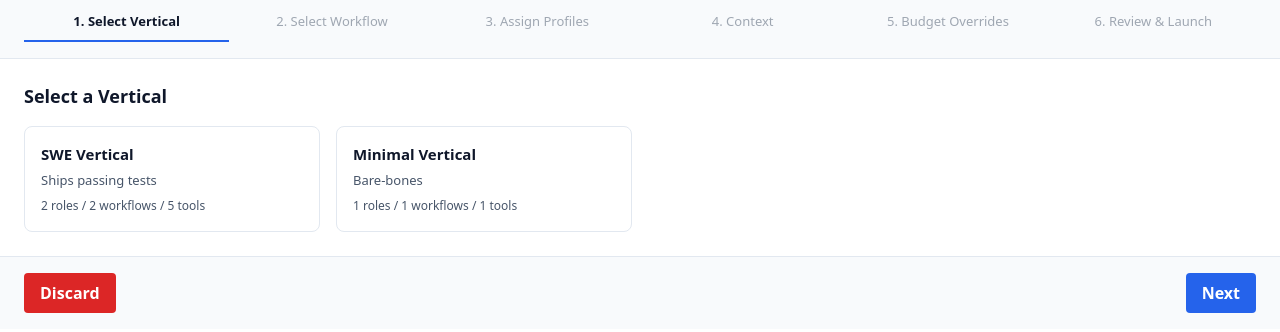
Test case: Wizard step 1 — Select Vertical › clicking a vertical card enables Next
What coordinates should you click on to do the following:
click the text "SWE Vertical"
I would click on:
 (87, 154)
Its box is [41,144,134,164].
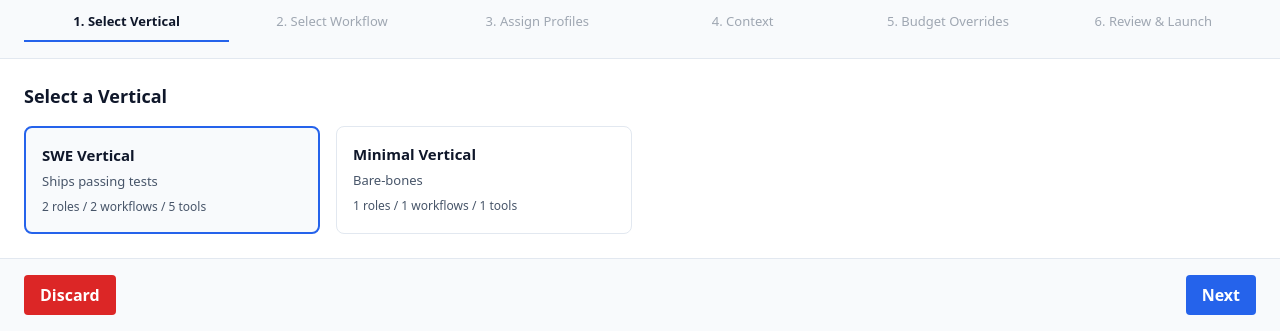
Result: the button "Next" is enabled at [1186,275,1256,315]
